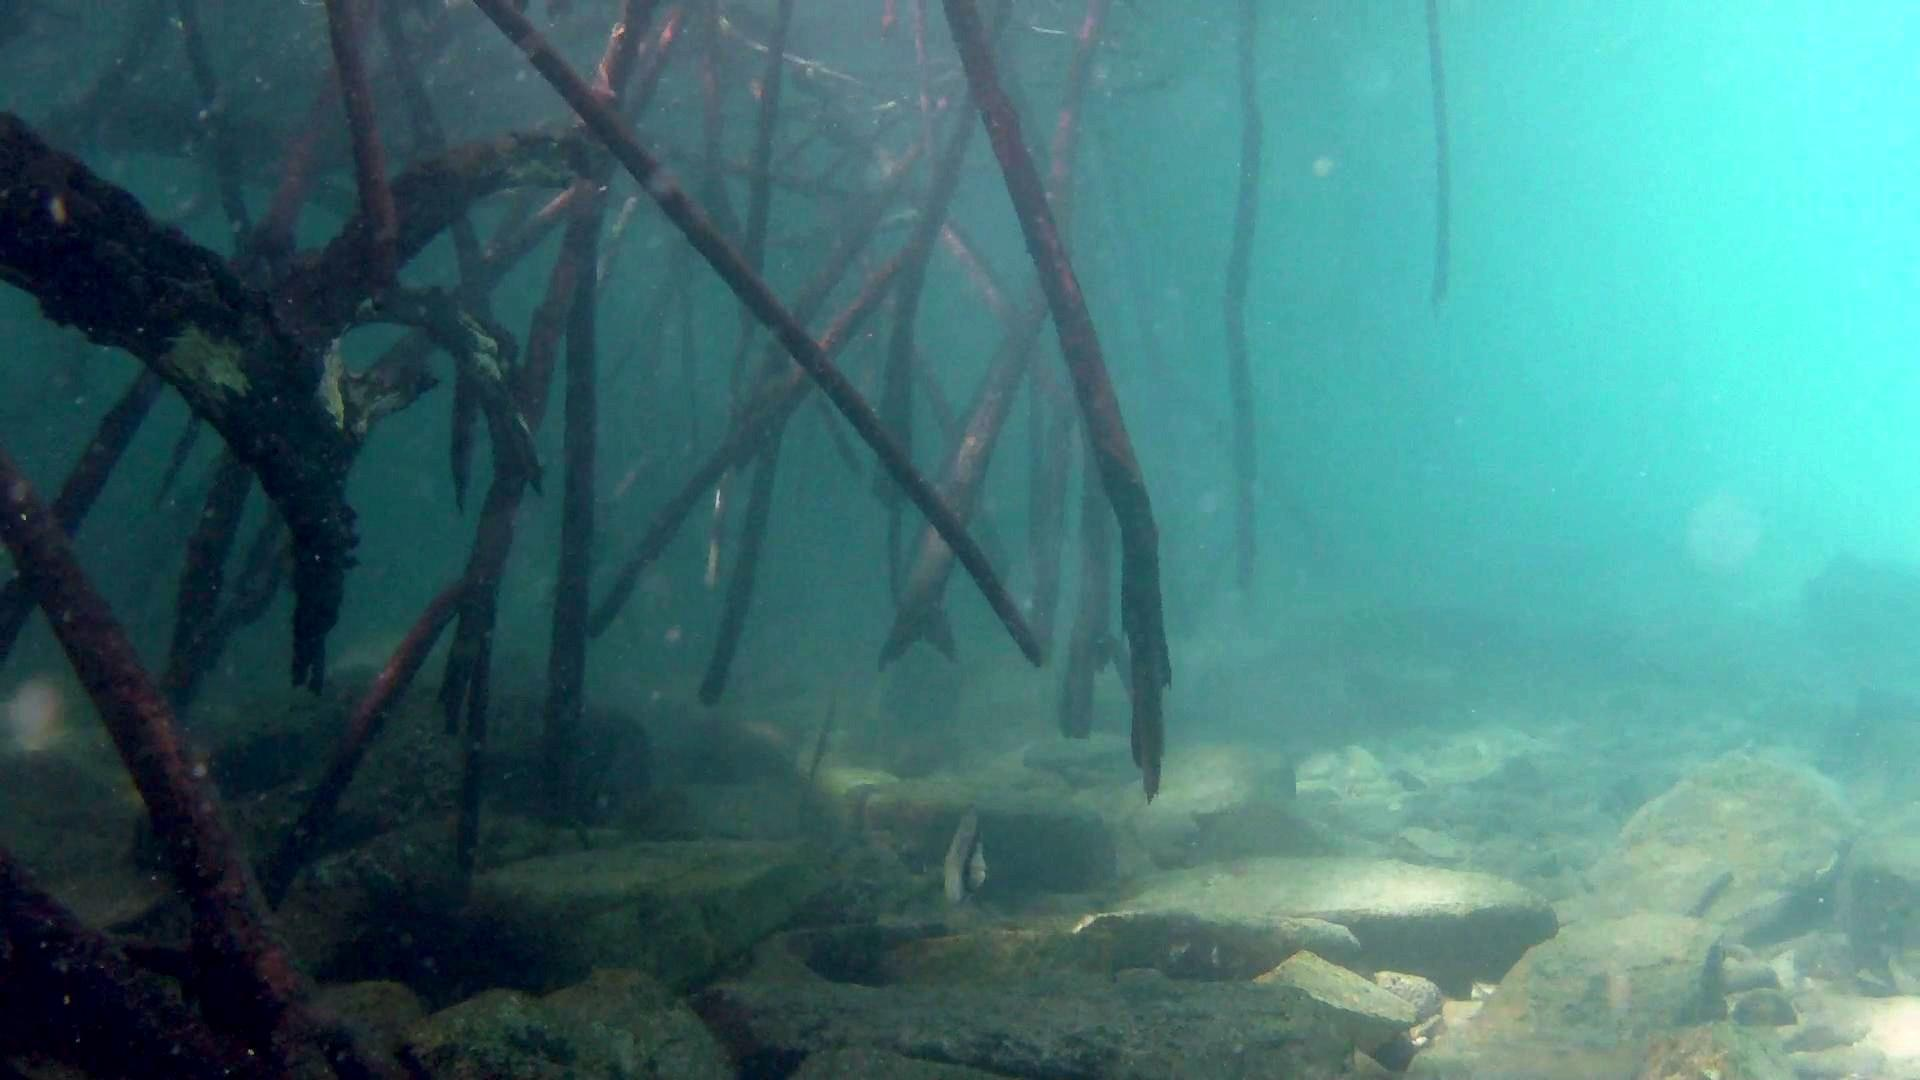chaetodon vagabundus: (937, 800, 995, 911)
